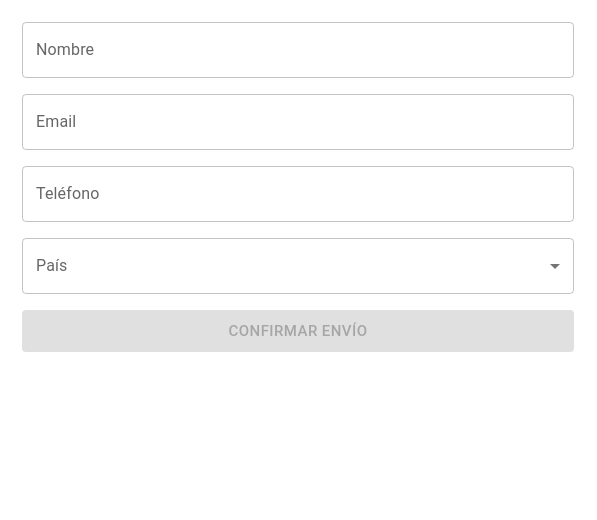
ShippingForm component › shows error when country not in America is selected
Type "Diego" into the field labelled "Nombre" at [298, 50], box x1=22 y1=22 x2=574 y2=78
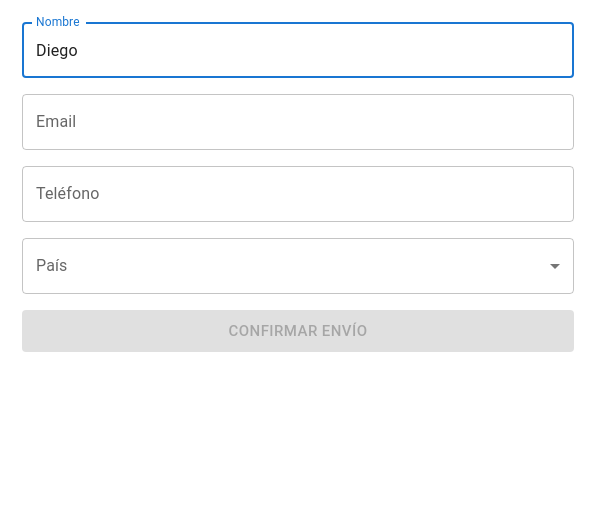
Type "correo@gmail.com" into the field labelled "Email" at [298, 122], box x1=22 y1=94 x2=574 y2=150
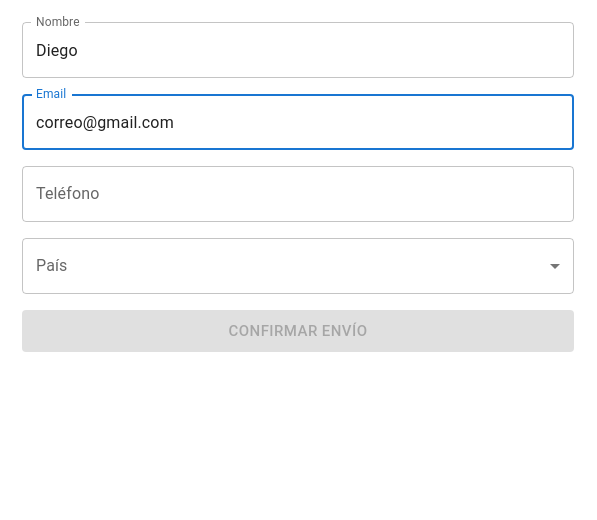
Type "3008536112" into the field labelled "Teléfono" at [298, 194], box x1=22 y1=166 x2=574 y2=222
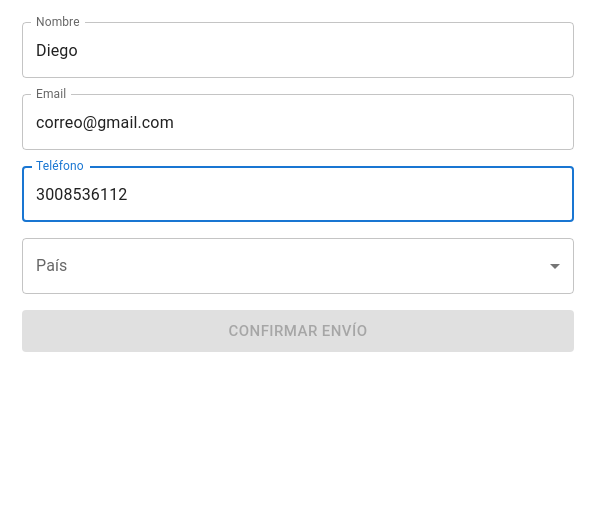
Press the mouse on the dropdown named "país" at [298, 266], box x1=22 y1=238 x2=574 y2=294
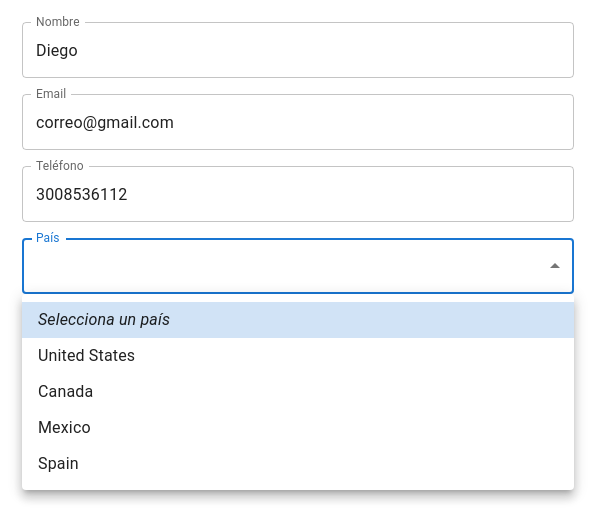
Click the option "Spain" at [58, 464], box x1=38 y1=454 x2=79 y2=473
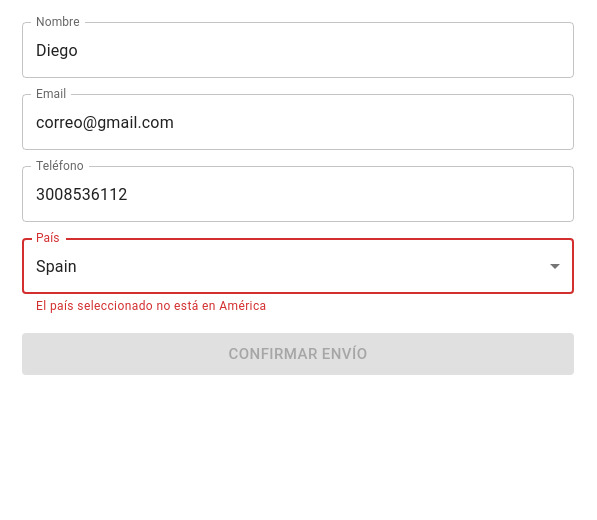
Check: the button "Confirmar Envío" is disabled, box x1=22 y1=333 x2=574 y2=375
Check: the text "El país seleccionado no está en América" is shown, box x1=36 y1=299 x2=266 y2=313
